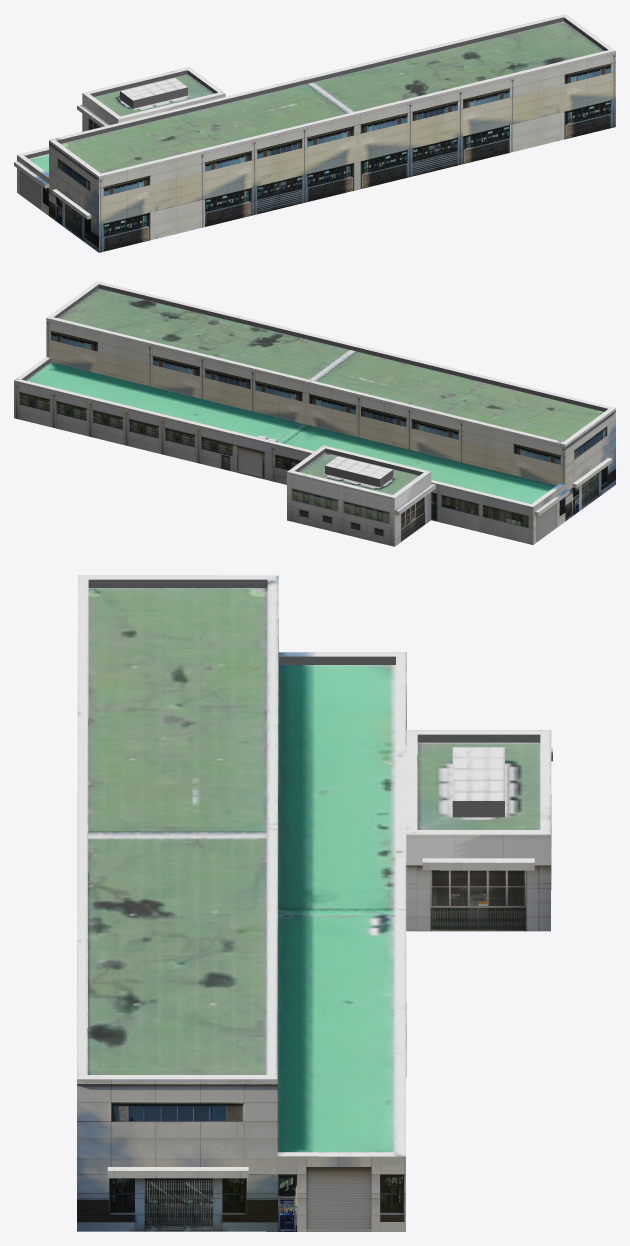
3 views of the same model, one above another, from view 1: azimuth 30°, elevation 25°; view 2: azimuth 150°, elevation 25°; view 3: azimuth 270°, elevation 25° (orthographic). The views are drawn at different scales.
Parts seen in each view (by area): view 1: MainBuilding; view 2: MainBuilding; view 3: MainBuilding.
Boxes of the visible parts, left/top/right/bottom form: MainBuilding: left=14, top=14, right=615, bottom=252; MainBuilding: left=14, top=281, right=615, bottom=546; MainBuilding: left=77, top=575, right=552, bottom=1231.
Size of the model in its own units: 6.71 by 0.93 by 2.63.
Materials: 1 (1 with a texture image).
